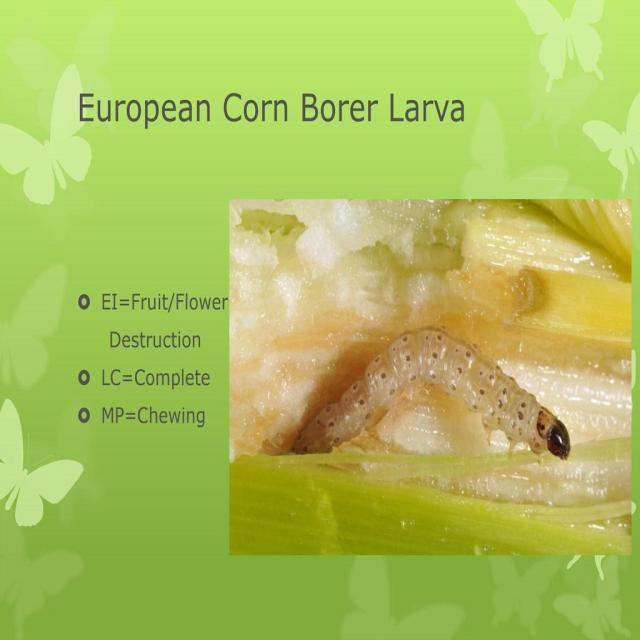cornborer-Larva-: (287, 322, 583, 481)
